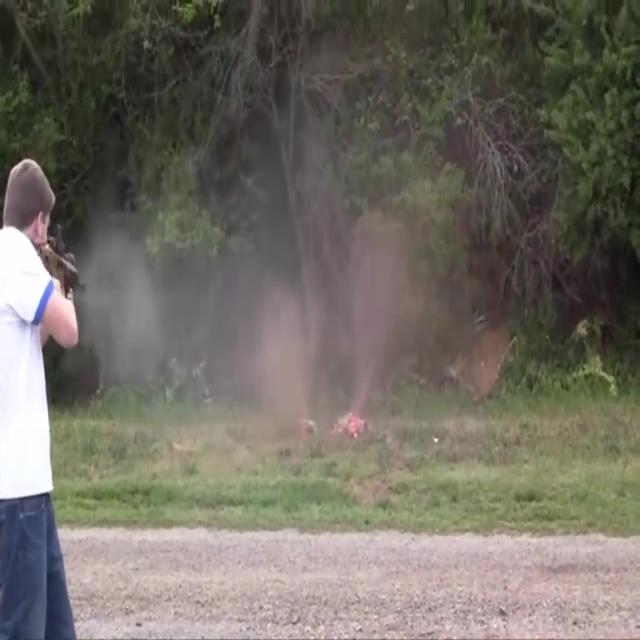Weapon: (14, 219, 101, 308)
